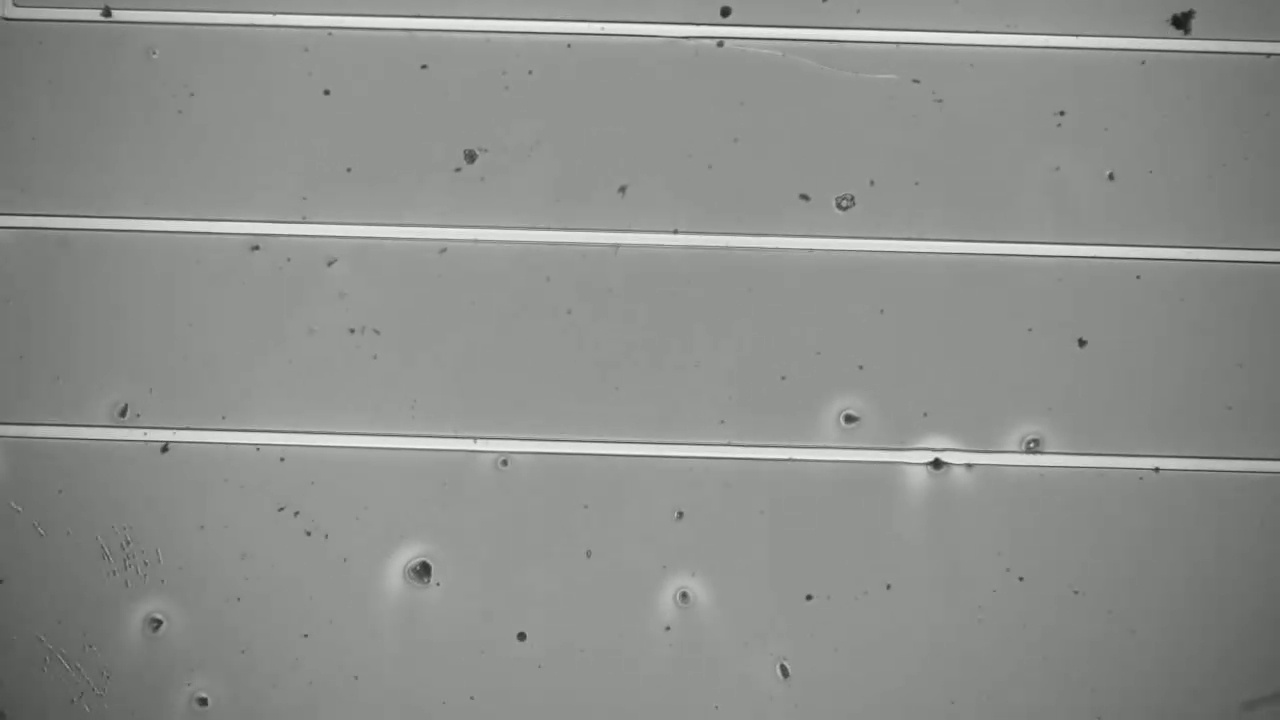stains_enbedded: (923, 439, 961, 483), (84, 0, 117, 34)
